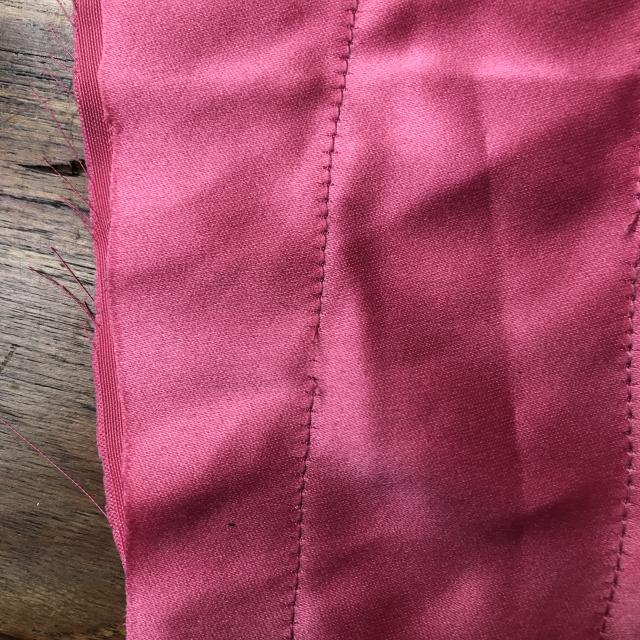broken: (294, 307, 338, 408)
